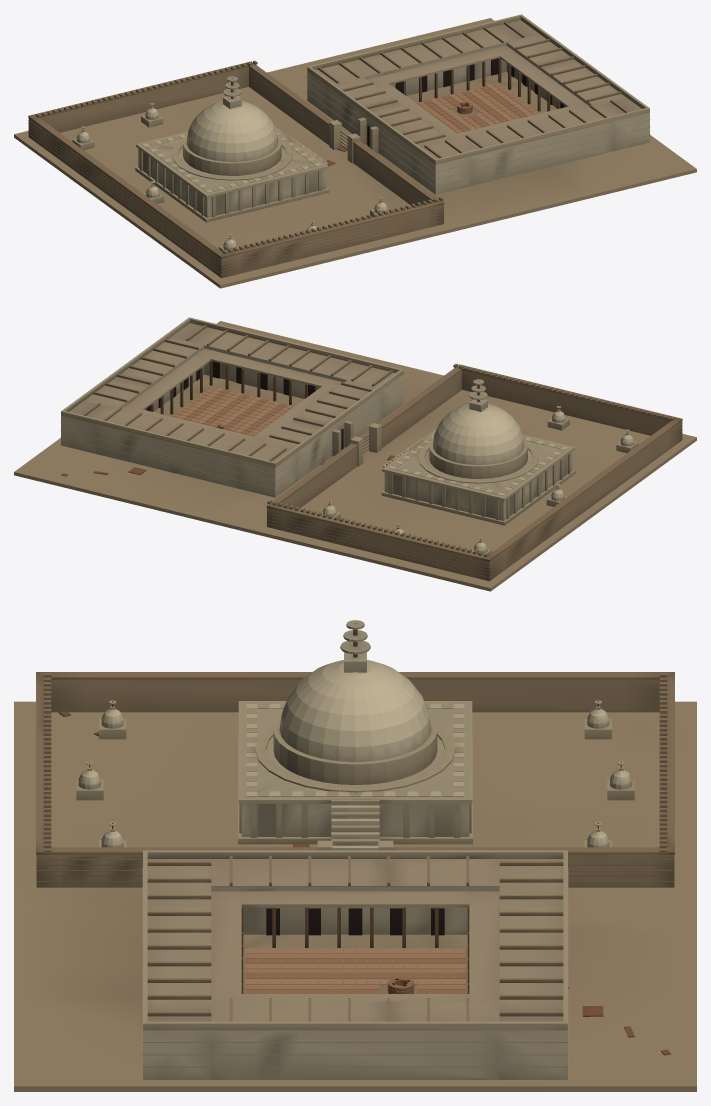
The model's file is stupa.glb.
The picture shows the model from 3 angles, top to bottom: view 1: azimuth 30°, elevation 25°; view 2: azimuth 150°, elevation 25°; view 3: azimuth 270°, elevation 25°; orthographic projection. The views are drawn at different scales.
Parts seen in each view (by area): view 1: p0_terrace, court and monastery walls, p2_monastery roofs, p1_stupa; view 2: p0_terrace, court and monastery walls, p2_monastery roofs, p1_stupa; view 3: p0_terrace, court and monastery walls, p2_monastery roofs, p1_stupa.
Boxes of the visible parts, left/top/right/bottom form: p0_terrace, court and monastery walls: left=14, top=18, right=696, bottom=288; p2_monastery roofs: left=307, top=14, right=649, bottom=164; p1_stupa: left=72, top=76, right=389, bottom=251; p0_terrace, court and monastery walls: left=14, top=321, right=696, bottom=591; p2_monastery roofs: left=61, top=317, right=403, bottom=467; p1_stupa: left=321, top=379, right=638, bottom=554; p0_terrace, court and monastery walls: left=14, top=672, right=696, bottom=1091; p2_monastery roofs: left=143, top=850, right=567, bottom=1030; p1_stupa: left=76, top=620, right=634, bottom=847.
Size of the model in its own units: 60 by 12.8 by 45.
